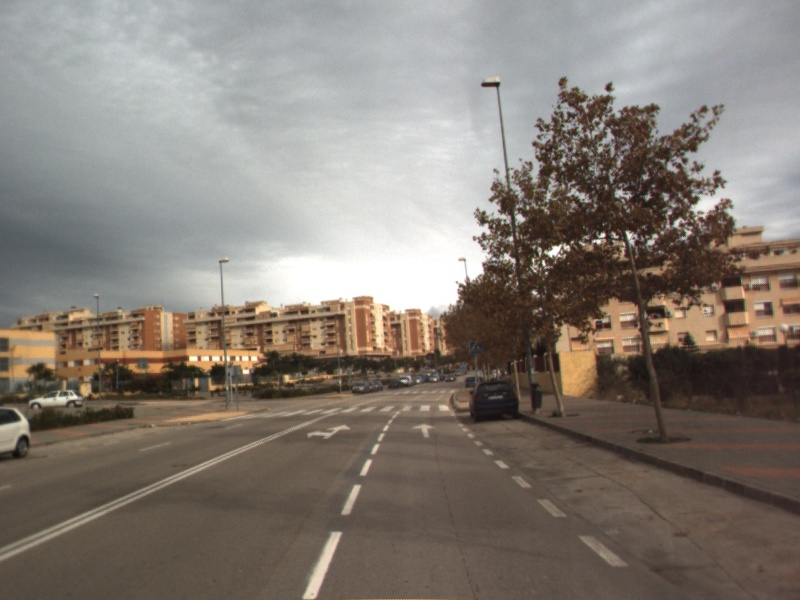STRAIGHT: (410, 421, 437, 439)
STRAIGHT_LEFT: (305, 422, 352, 441)
